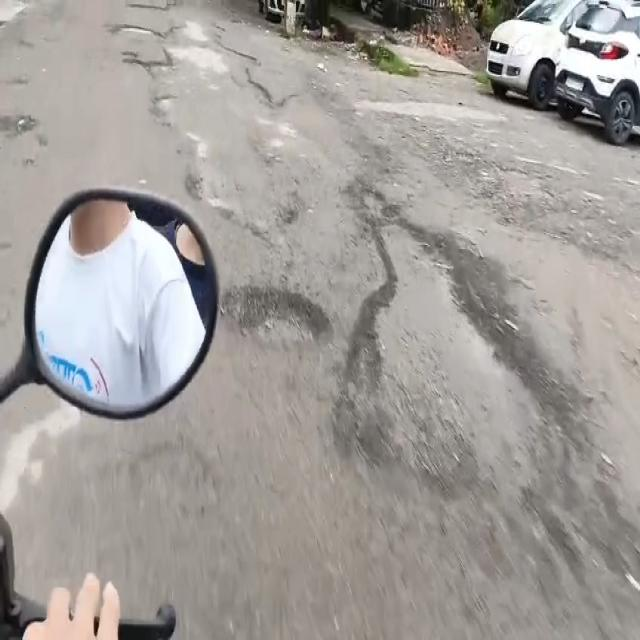road-pothole: (337, 175, 559, 498), (110, 16, 363, 239), (460, 145, 599, 242), (222, 279, 331, 353)
